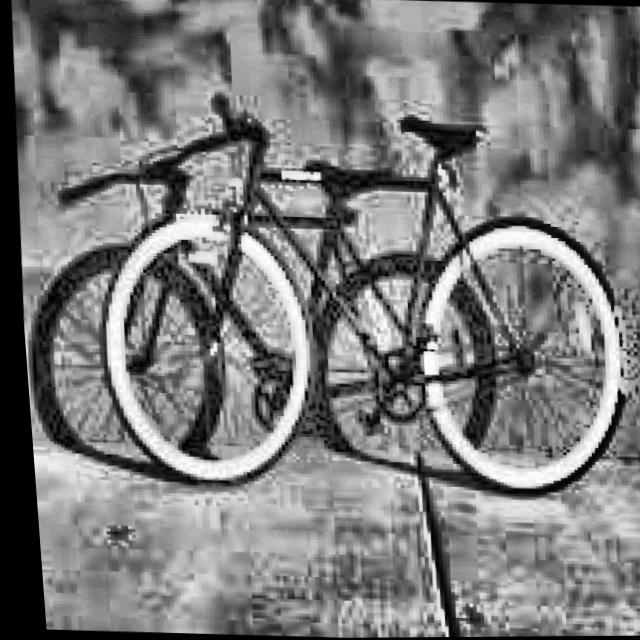motorcycle: (63, 80, 640, 512)
